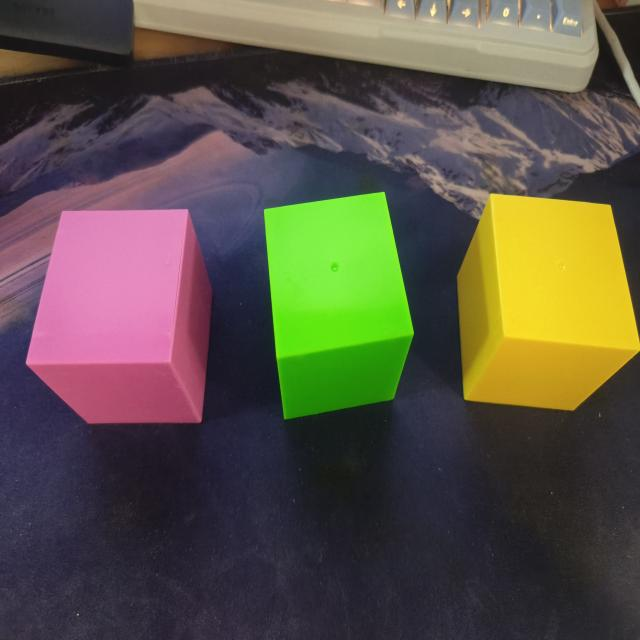green: (262, 190, 415, 422)
pink: (25, 208, 214, 427)
yellow: (456, 194, 640, 414)
